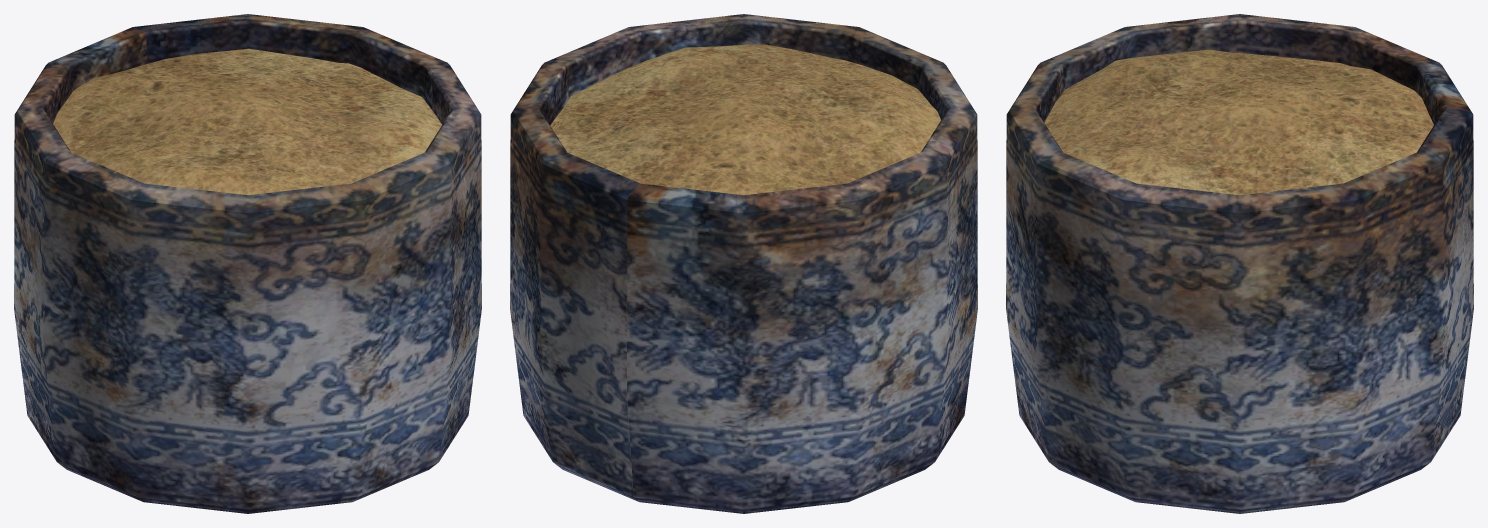
Rendered from incensePot01.FBX.
3 renders of one model, left to right at view 1: azimuth 30°, elevation 25°; view 2: azimuth 150°, elevation 25°; view 3: azimuth 270°, elevation 25°, orthographic.
Parts seen in each view (by area): view 1: SM_IncensePot01; view 2: SM_IncensePot01; view 3: SM_IncensePot01.
Boxes of the visible parts, x1,y1,x2,y2 form: SM_IncensePot01: [14, 14, 481, 513]; SM_IncensePot01: [510, 14, 977, 513]; SM_IncensePot01: [1006, 14, 1473, 513].
Size of the model in its own units: 12.5 by 9.49 by 12.5.
Materials: 2 (2 with a texture image).
